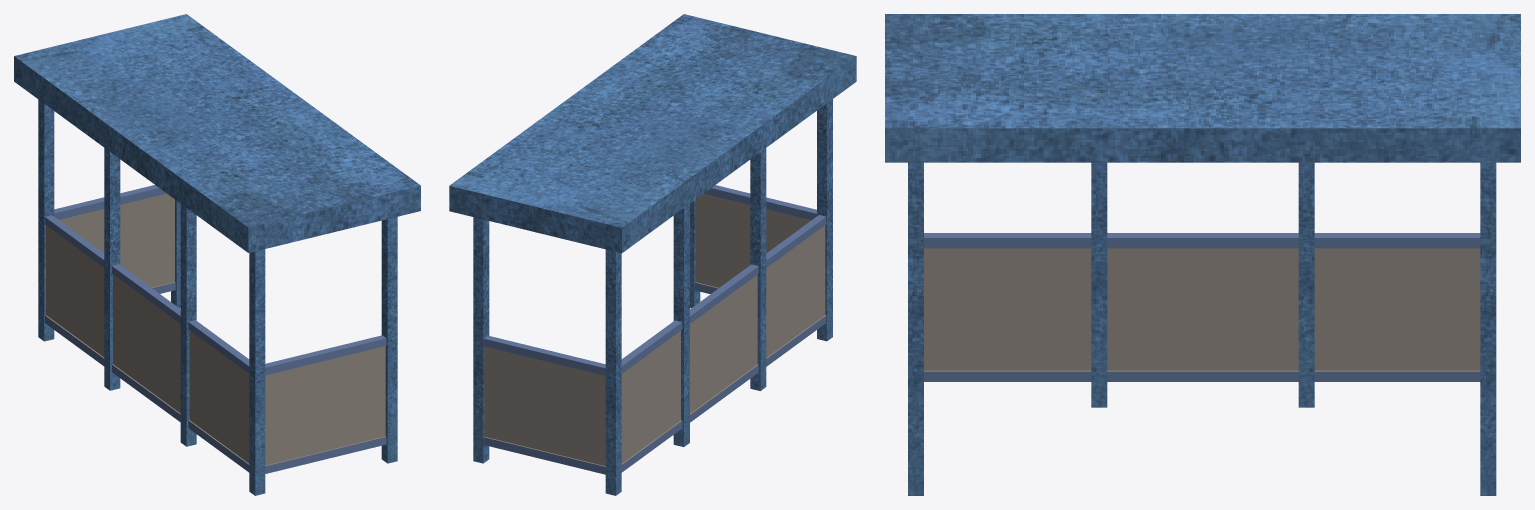
Rendered from busstopblue.glb.
3 views of the same model, side by side, from view 1: azimuth 30°, elevation 25°; view 2: azimuth 150°, elevation 25°; view 3: azimuth 270°, elevation 25° (orthographic). The views are drawn at different scales.
Visible parts, largest first — view 1: top, panes, pillars; view 2: top, panes, pillars; view 3: top, panes, pillars.
Part boxes in pixels (bbox=[...]): top: bbox=[14, 14, 420, 252]; panes: bbox=[45, 185, 386, 473]; pillars: bbox=[38, 99, 397, 495]; top: bbox=[449, 14, 856, 253]; panes: bbox=[483, 185, 826, 474]; pillars: bbox=[473, 99, 832, 495]; top: bbox=[885, 14, 1520, 162]; panes: bbox=[924, 233, 1480, 381]; pillars: bbox=[908, 162, 1496, 495].
Size of the model in its own units: 3.4 by 5.24 by 8.
3 materials, 1 textured.
